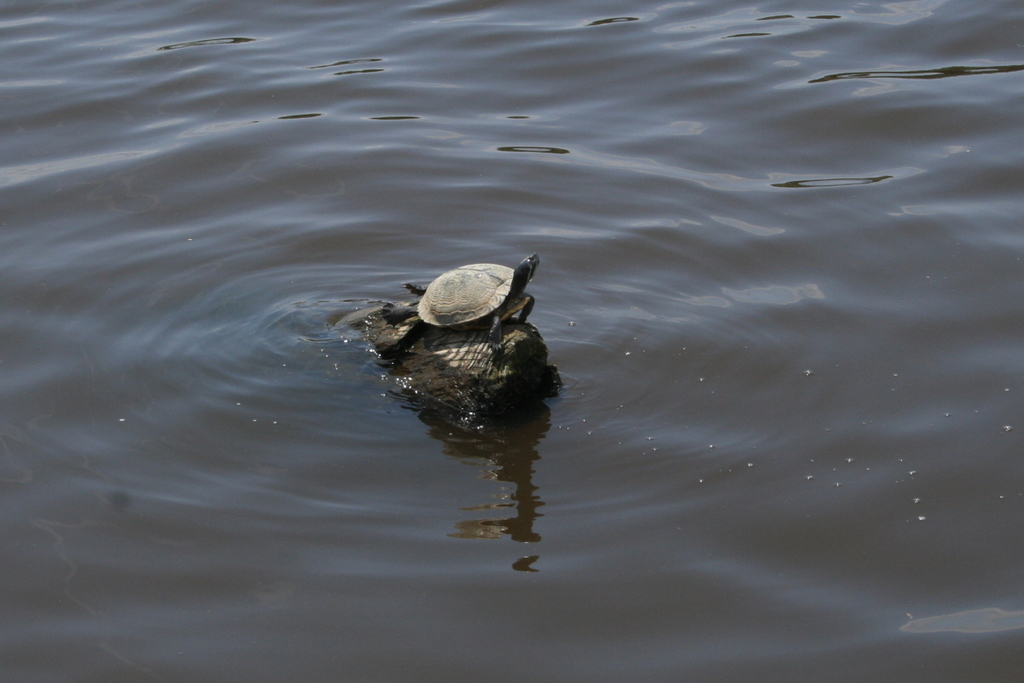Sea turtles: (376, 246, 540, 367)
